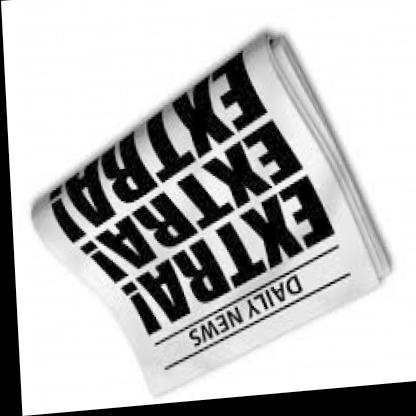trash: (33, 32, 391, 393)
